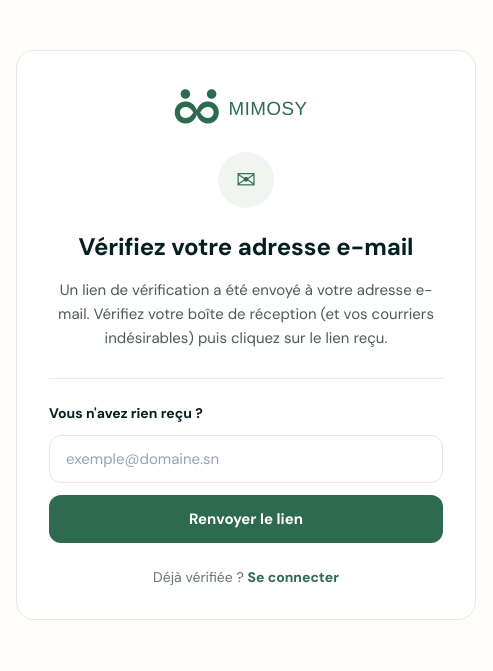
VerifierEmail.vue — après inscription et renvoi › refuse un e-mail invalide sans appeler l’API
Type "pas-un-email" into the field with id "email-renvoi" at point(246, 459), box [49,435,443,483]
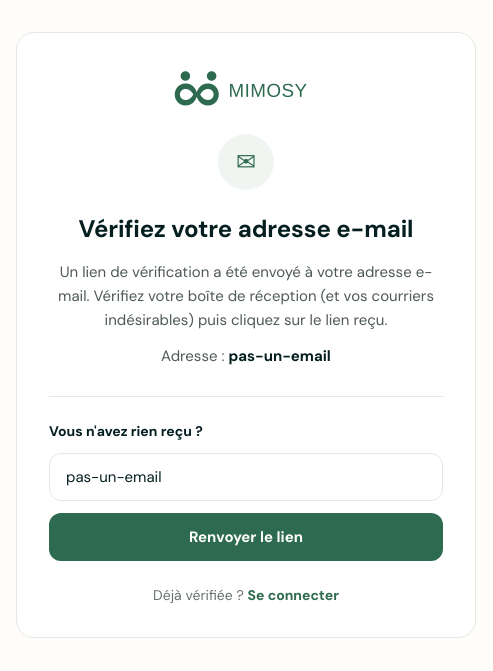
Submit the form, box [49,396,443,561]
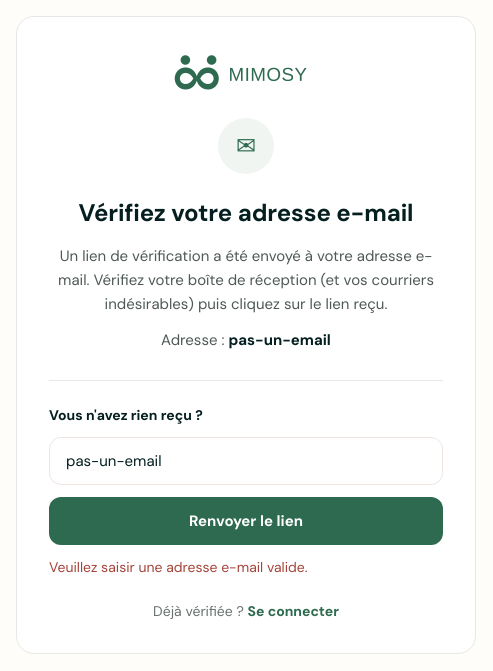
expect the text "Veuillez saisir une adresse e-mail valide." is shown: met, box [49,558,308,576]
